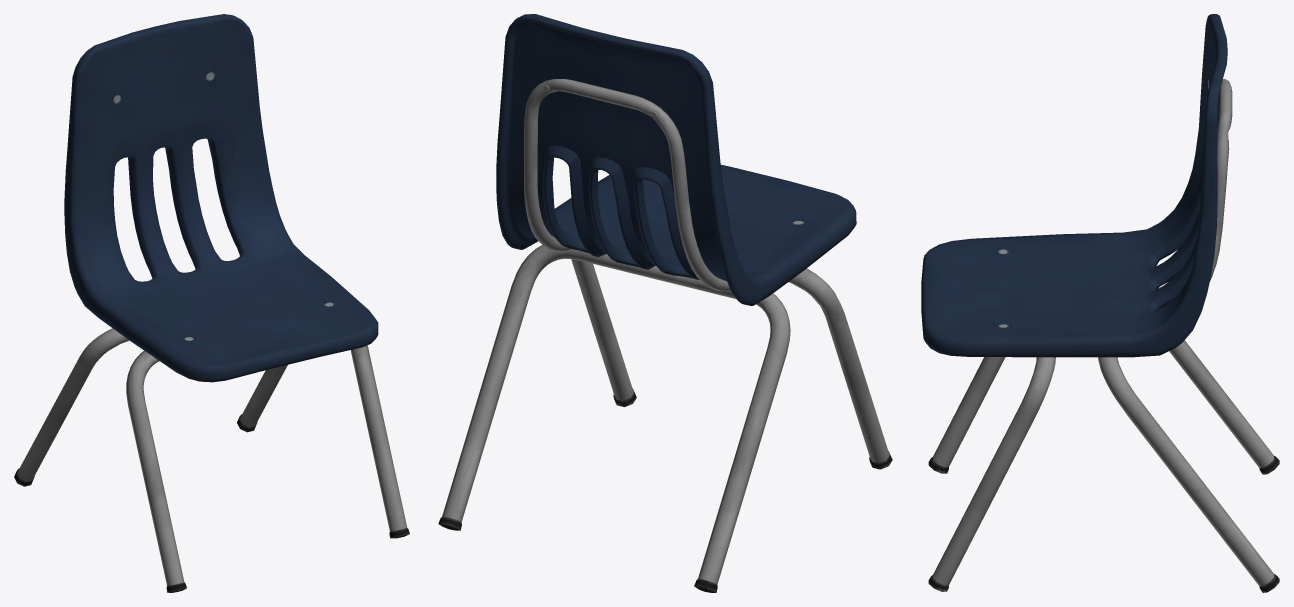
Rendered from school_chair.glb.
3 renders of one model, left to right at view 1: azimuth 30°, elevation 25°; view 2: azimuth 150°, elevation 25°; view 3: azimuth 270°, elevation 25°, orthographic. The views are drawn at different scales.
Parts seen in each view (by area): view 1: SchoolChair_01; view 2: SchoolChair_01; view 3: SchoolChair_01.
Part boxes in pixels (bbox=[...]): SchoolChair_01: bbox=[14, 14, 409, 592]; SchoolChair_01: bbox=[438, 14, 892, 592]; SchoolChair_01: bbox=[921, 14, 1279, 592].
Size of the model in its own units: 0.5659 by 1.01 by 0.6752.
Materials: 1 (1 with a texture image).
